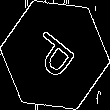P_SE: (26, 25, 84, 85)
